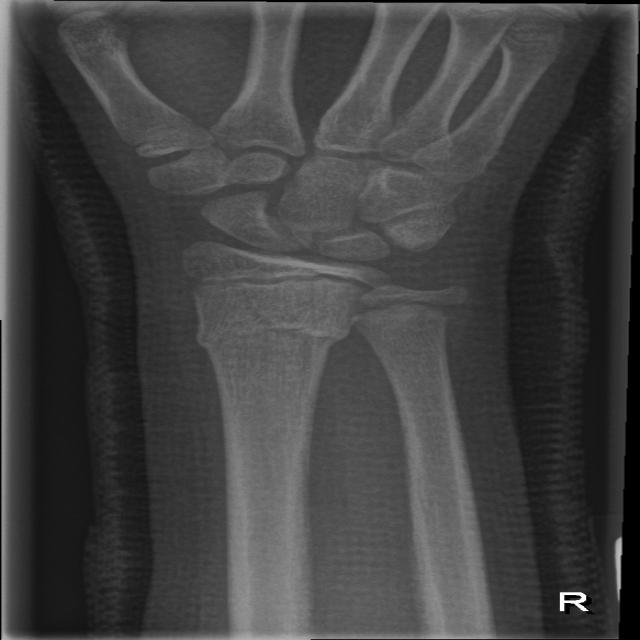radius fracture: (195, 288, 352, 386)
